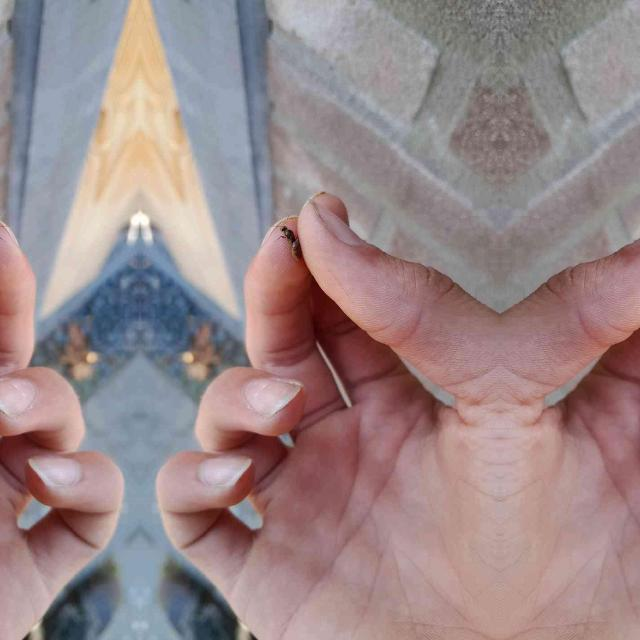Lasius: (272, 216, 308, 264)
